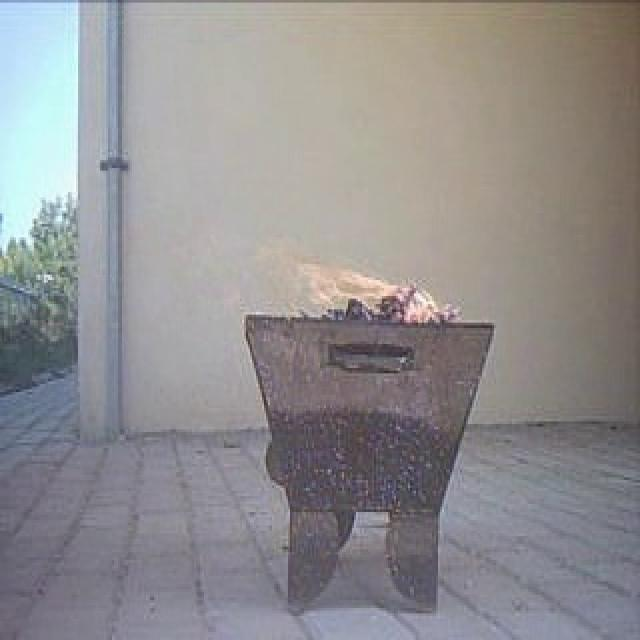Fire: (270, 225, 462, 330)
